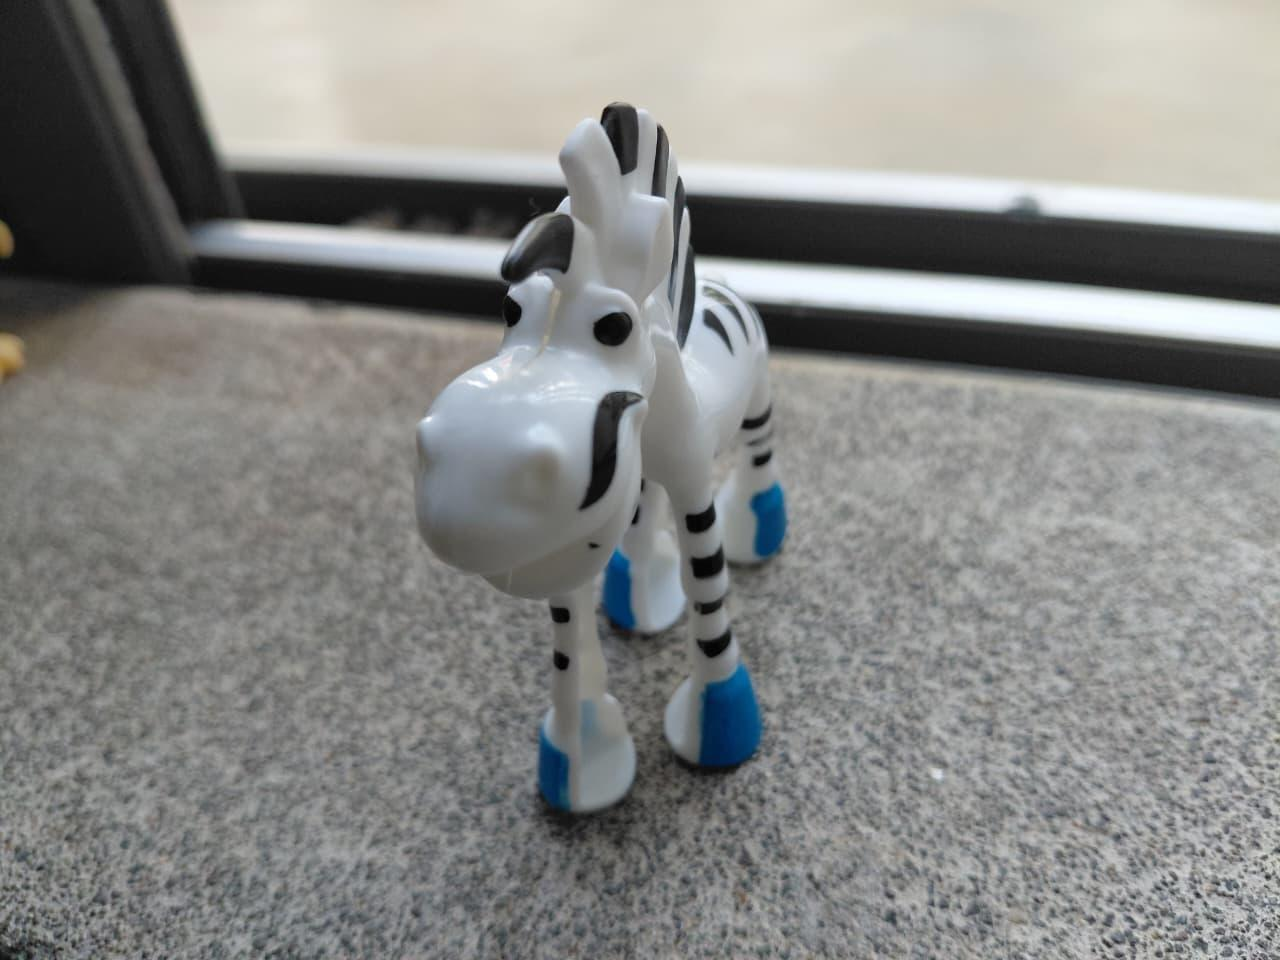zebra: (319, 63, 921, 829)
